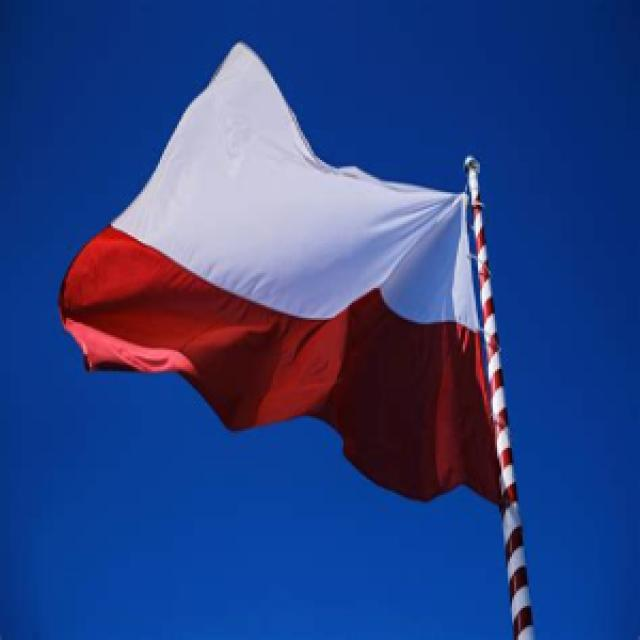poland: (81, 55, 527, 524)
